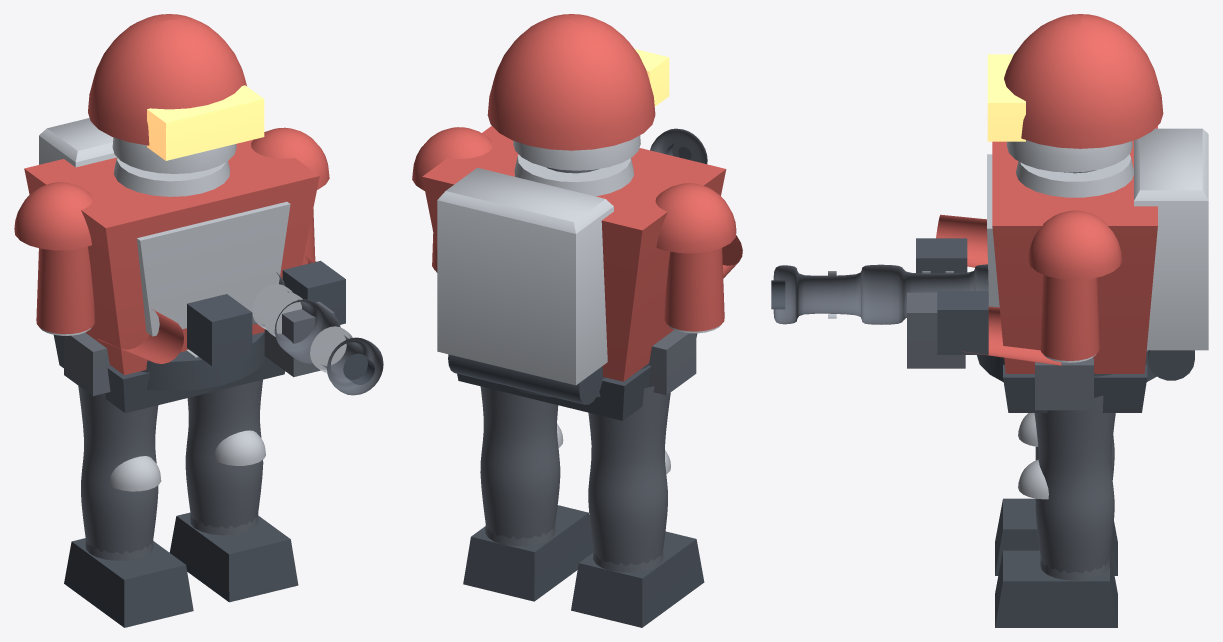
The model's file is terror.glb.
3 views of the same model, side by side, from view 1: azimuth 30°, elevation 25°; view 2: azimuth 150°, elevation 25°; view 3: azimuth 270°, elevation 25° (orthographic). The views are drawn at different scales.
Visible parts, largest first — view 1: Hull; view 2: Hull; view 3: Hull.
Boxes of the visible parts, x1=… form: Hull: x1=14, y1=14, x2=383, y2=627; Hull: x1=412, y1=14, x2=742, y2=627; Hull: x1=771, y1=14, x2=1208, y2=627.
Size of the model in its own units: 0.6327 by 1.11 by 0.7779.
